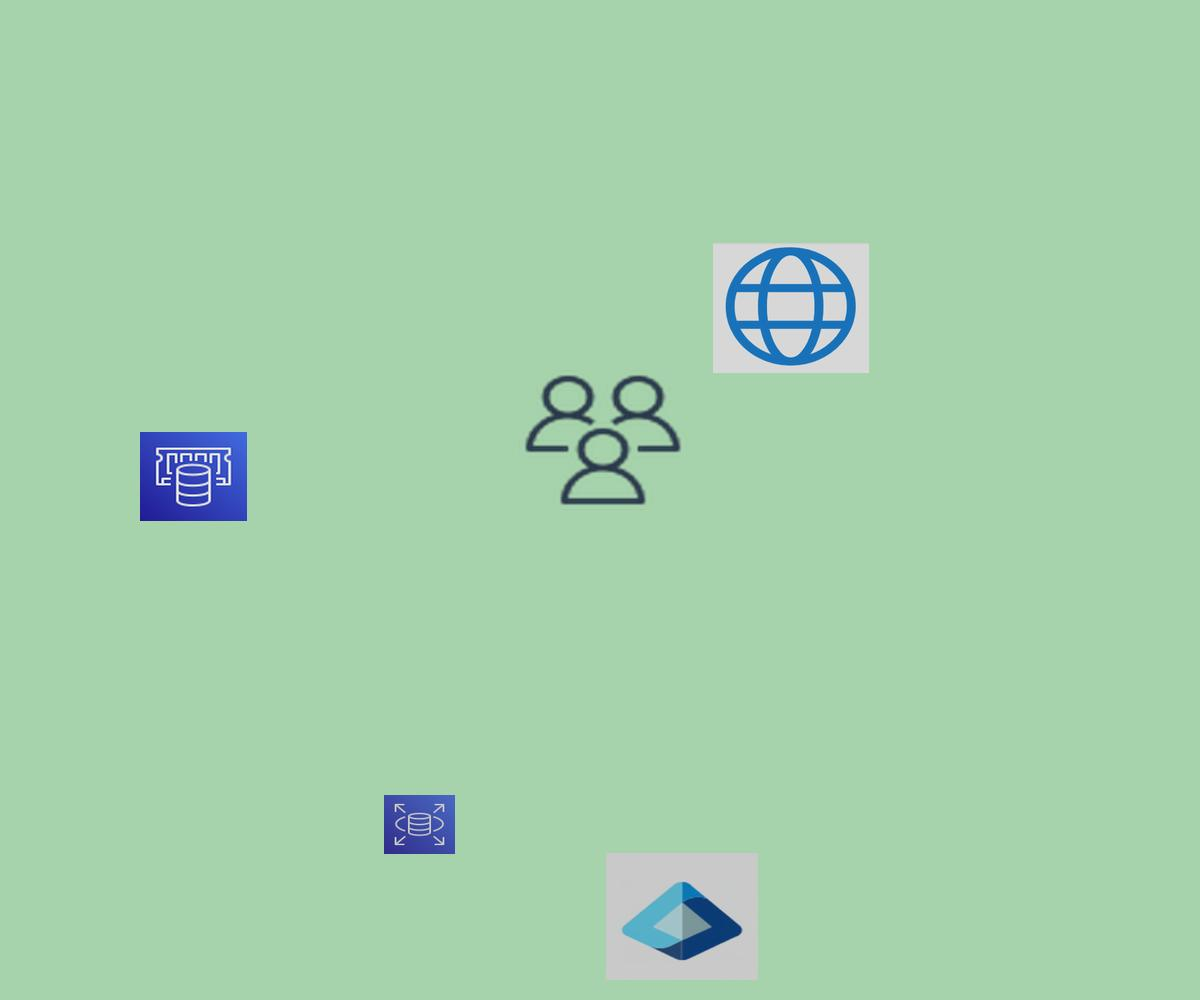AWS-ElastiCache: (140, 432, 247, 521)
AWS-RDS: (384, 795, 455, 854)
AWS-Res_Users: (519, 370, 687, 510)
Azure_http: (713, 243, 869, 373)
Azure_microsoft_entra: (606, 853, 758, 980)
